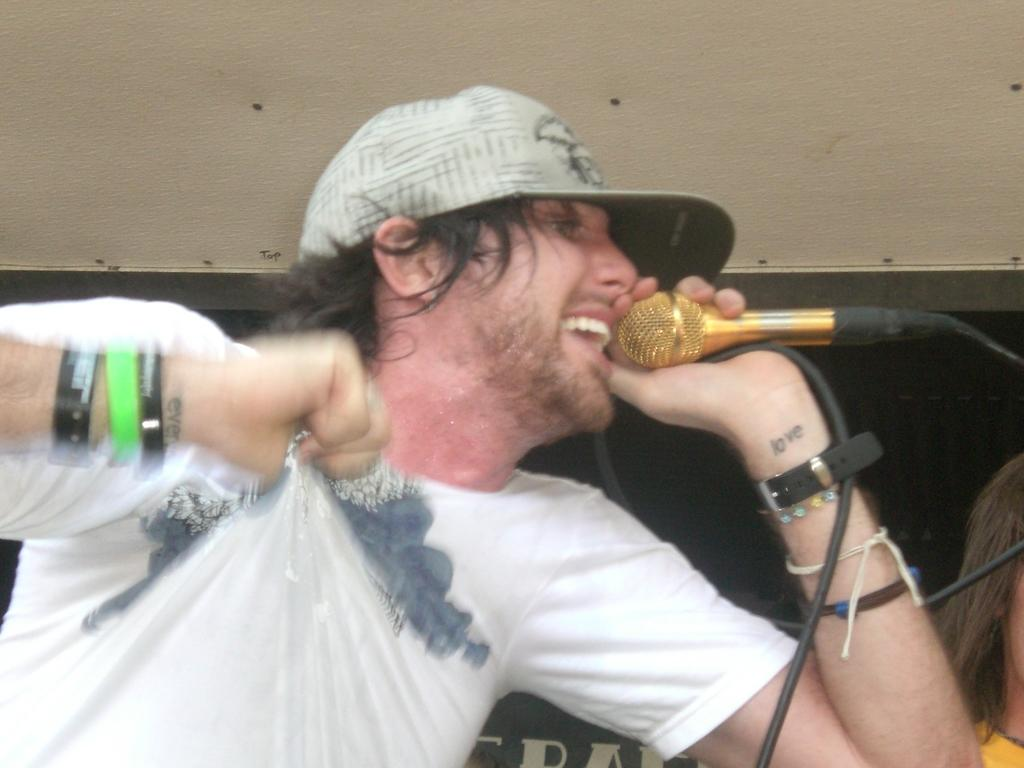Hat: (296, 84, 734, 330)
